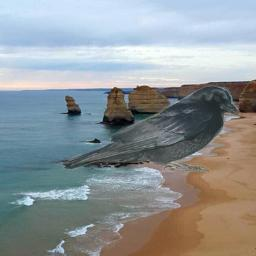Crow: (61, 85, 240, 172)
